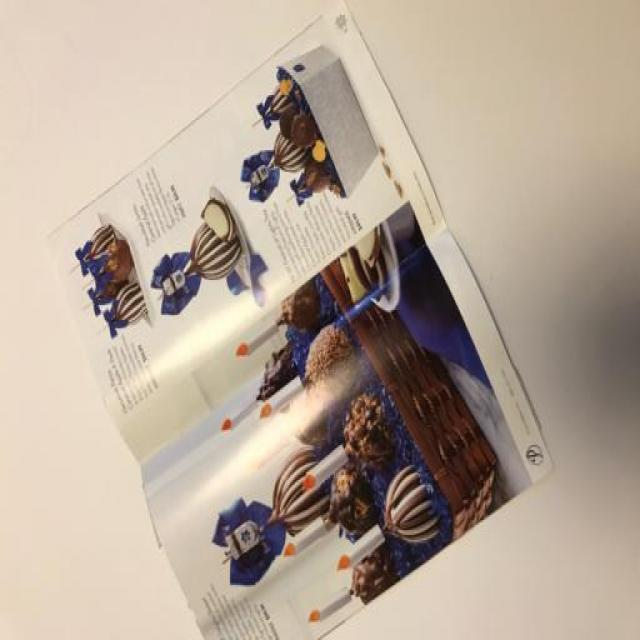paper: (19, 12, 612, 640)
